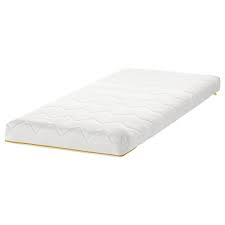bed-matress: (4, 68, 221, 156)
